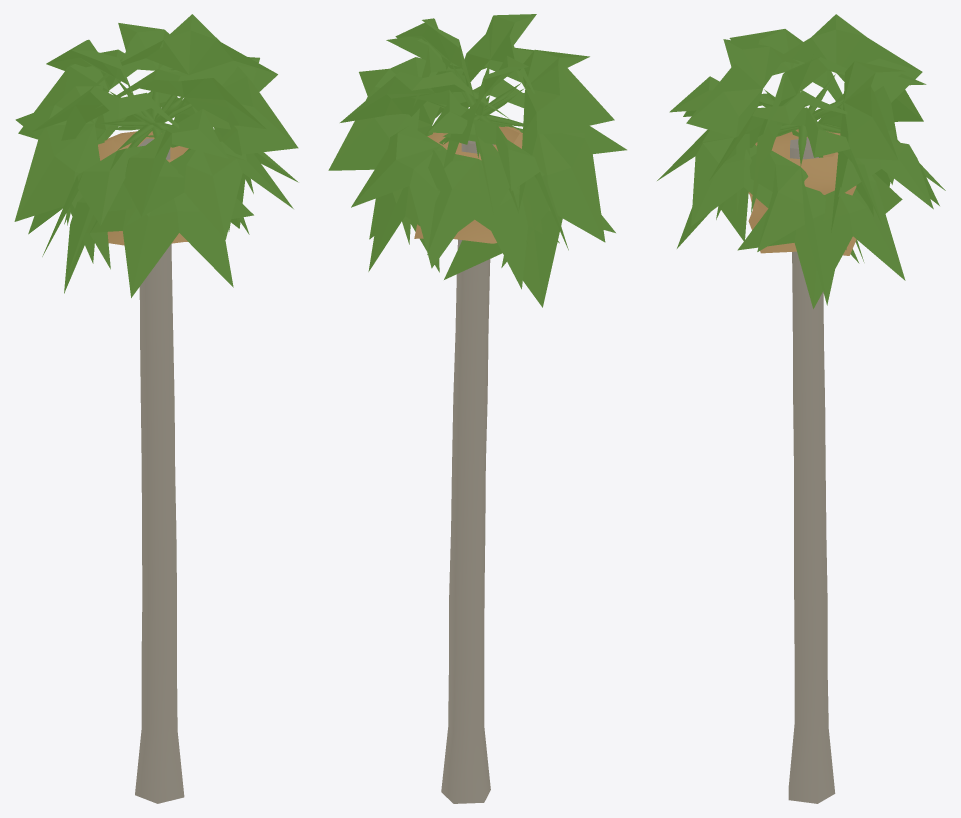
File: Blender_FanPalm_2_Far.glb
3 renders of one model, left to right at view 1: azimuth 30°, elevation 25°; view 2: azimuth 150°, elevation 25°; view 3: azimuth 270°, elevation 25°, orthographic.
Visible parts, largest first — view 1: Blender_FanPalm_2_Far; view 2: Blender_FanPalm_2_Far; view 3: Blender_FanPalm_2_Far.
Part boxes in pixels (x1,y1,x2,y2): Blender_FanPalm_2_Far: [14, 14, 298, 803]; Blender_FanPalm_2_Far: [328, 14, 626, 803]; Blender_FanPalm_2_Far: [657, 14, 945, 803].
Size of the model in its own units: 5.22 by 15.83 by 5.5.
